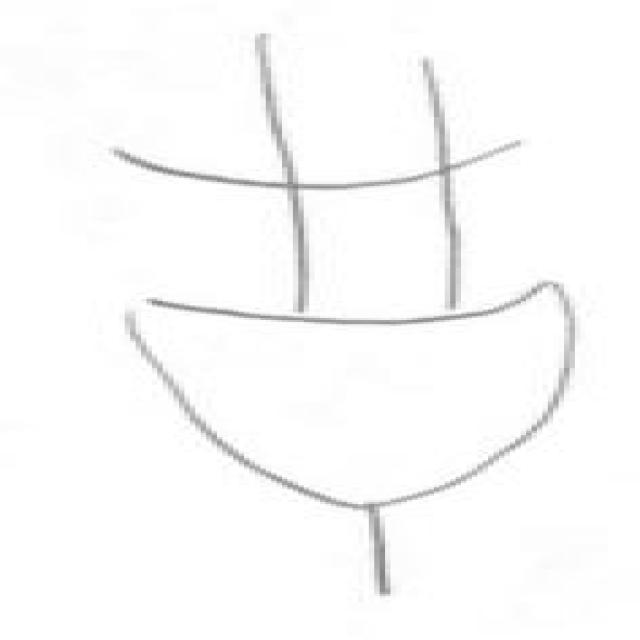XOR: (86, 124, 624, 518)
